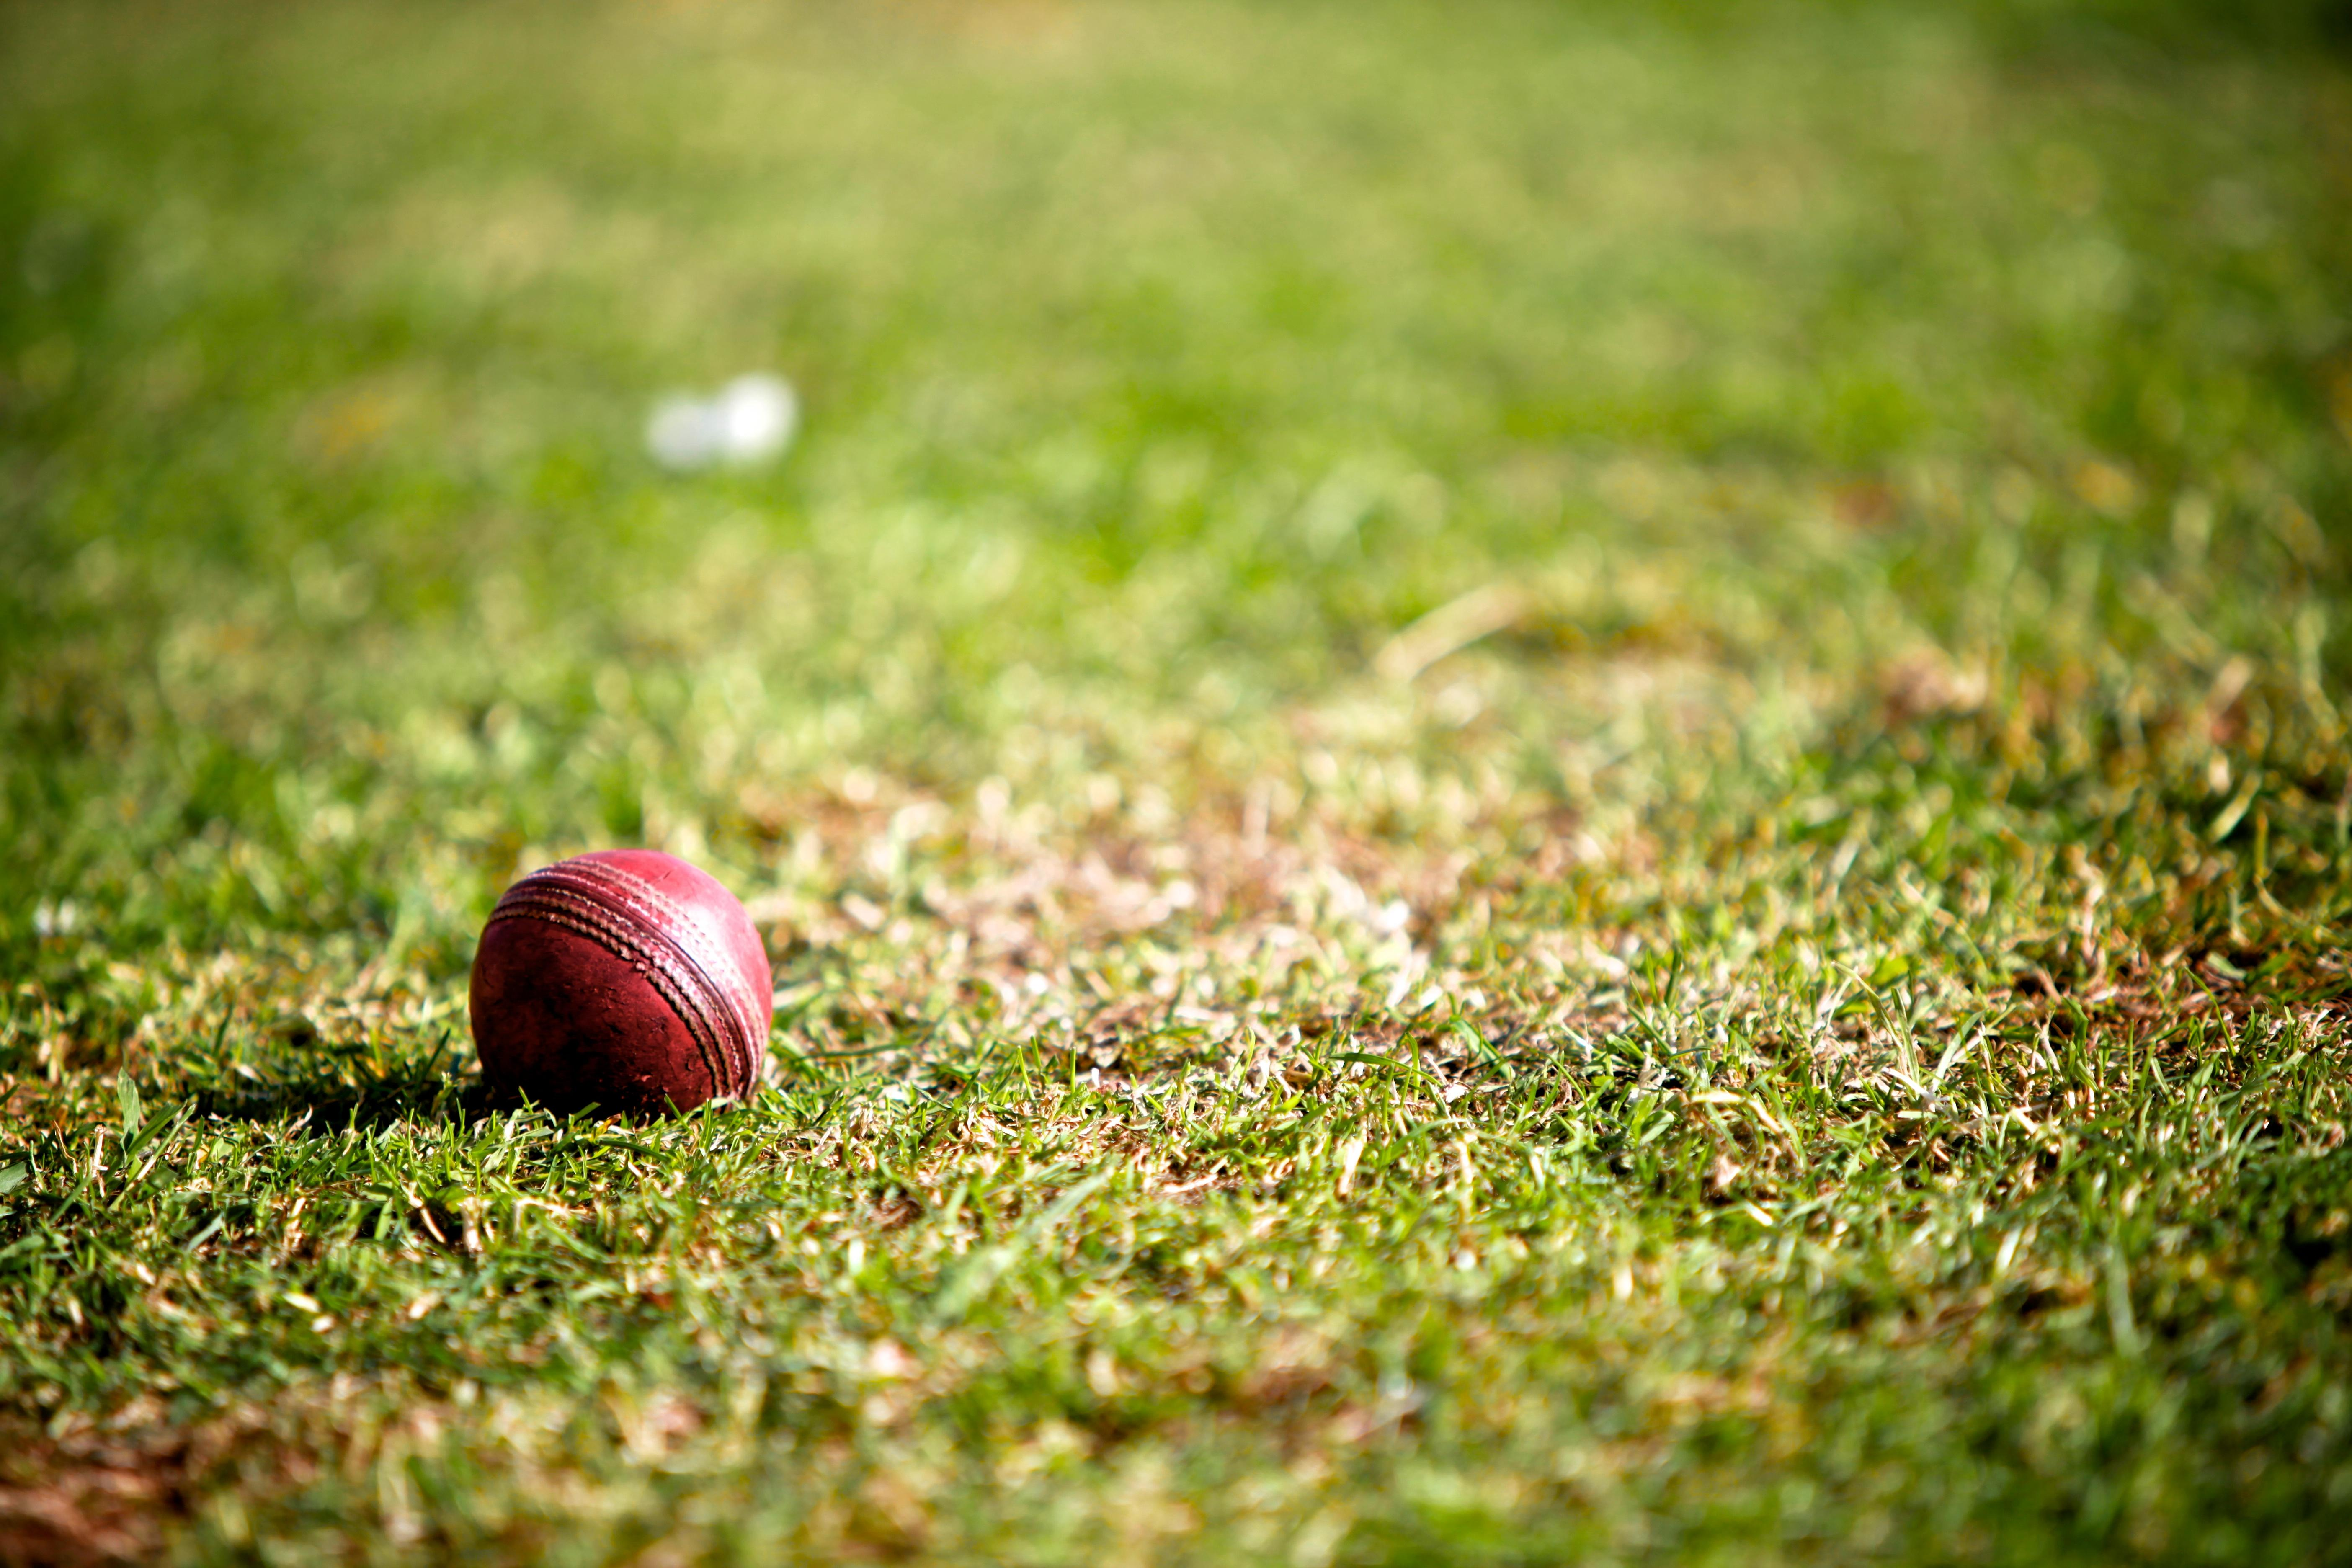Red_Ball: (443, 844, 793, 1139)
